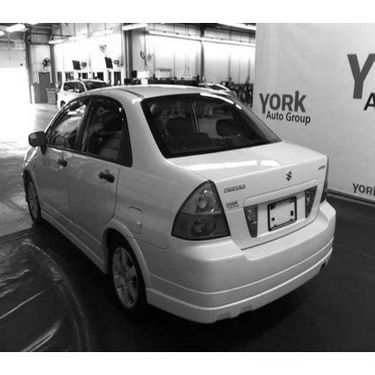car: (12, 78, 342, 333), (52, 70, 113, 119), (185, 75, 242, 109)
